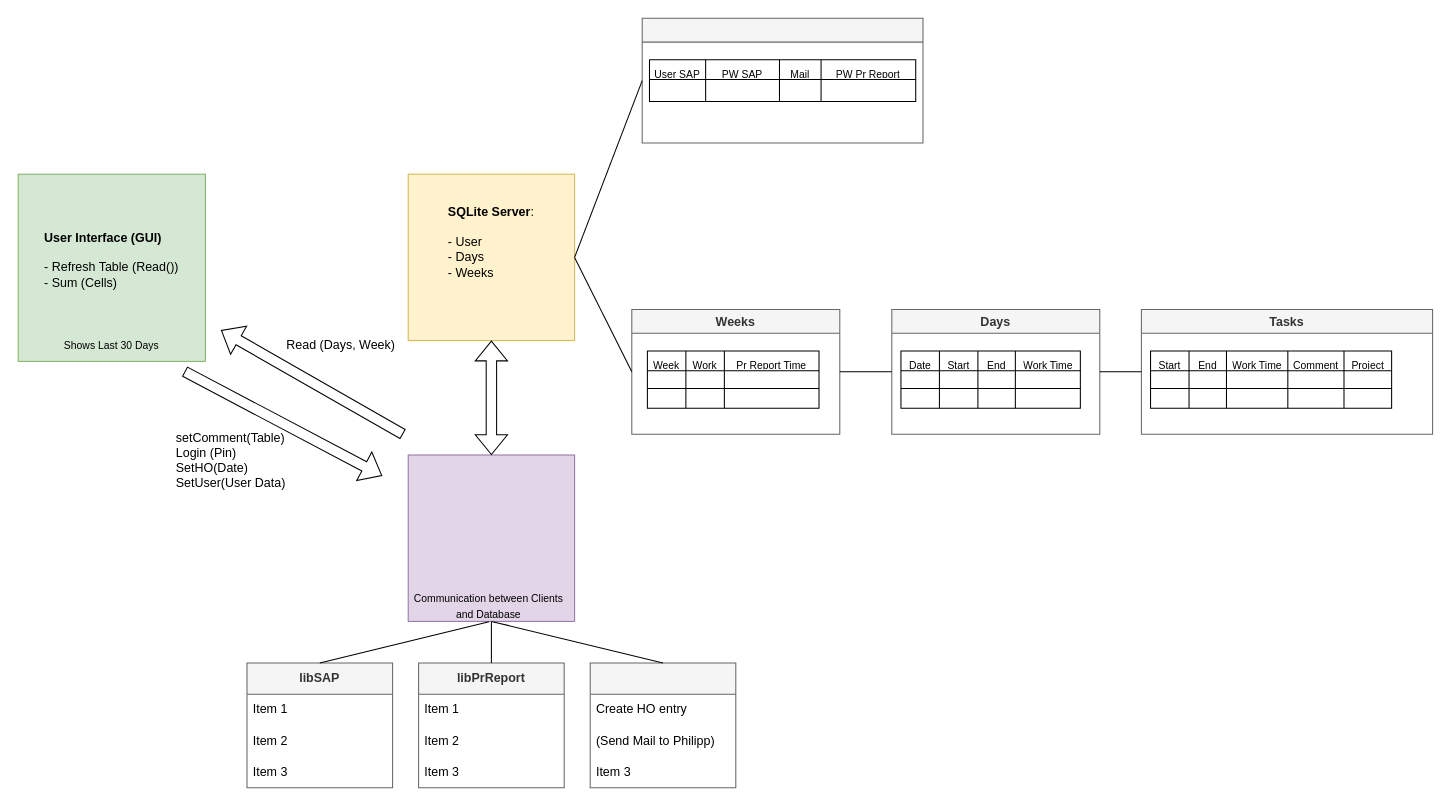
Image size: 1451x806. Some labels were removed from this diagram. The shapes that lost their labels are listed below. From the top down, each one's box as (x1, y1, x2, y2) in pixels, then its label:
(641, 17, 923, 143): User Data
(407, 454, 575, 621): Python Lib Server: - libSAP - libPrReport - libOutlook
(589, 662, 736, 788): libOutlook
